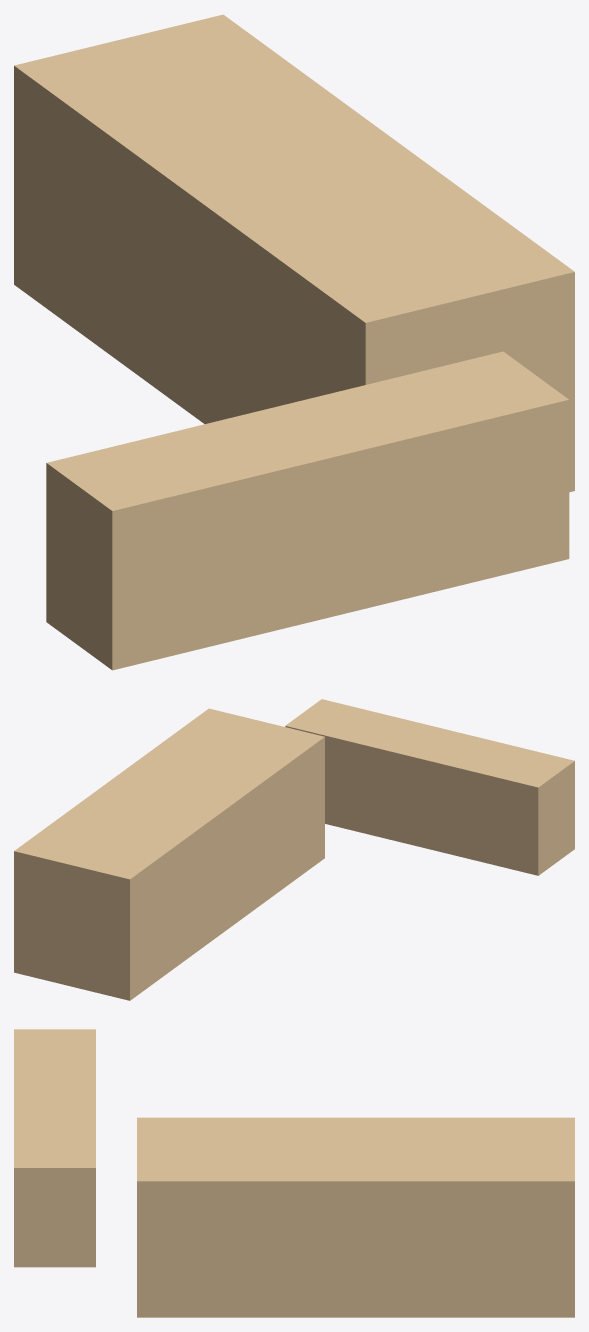
Rendered from robot_l2.glb.
3 views of the same model, one above another, from view 1: azimuth 30°, elevation 25°; view 2: azimuth 150°, elevation 25°; view 3: azimuth 270°, elevation 25° (orthographic). The views are drawn at different scales.
Parts seen in each view (by area): view 1: ROBOT; view 2: ROBOT; view 3: ROBOT.
Boxes of the visible parts, x1,y1,x2,y2 form: ROBOT: (14,14,574,670); ROBOT: (14,699,574,1000); ROBOT: (14,1029,574,1317).
Bounding box in the file's own units: 0.295 × 0.11 × 0.41.
